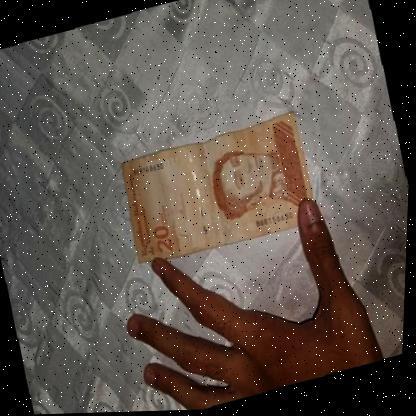vef_front: (117, 111, 323, 268)
